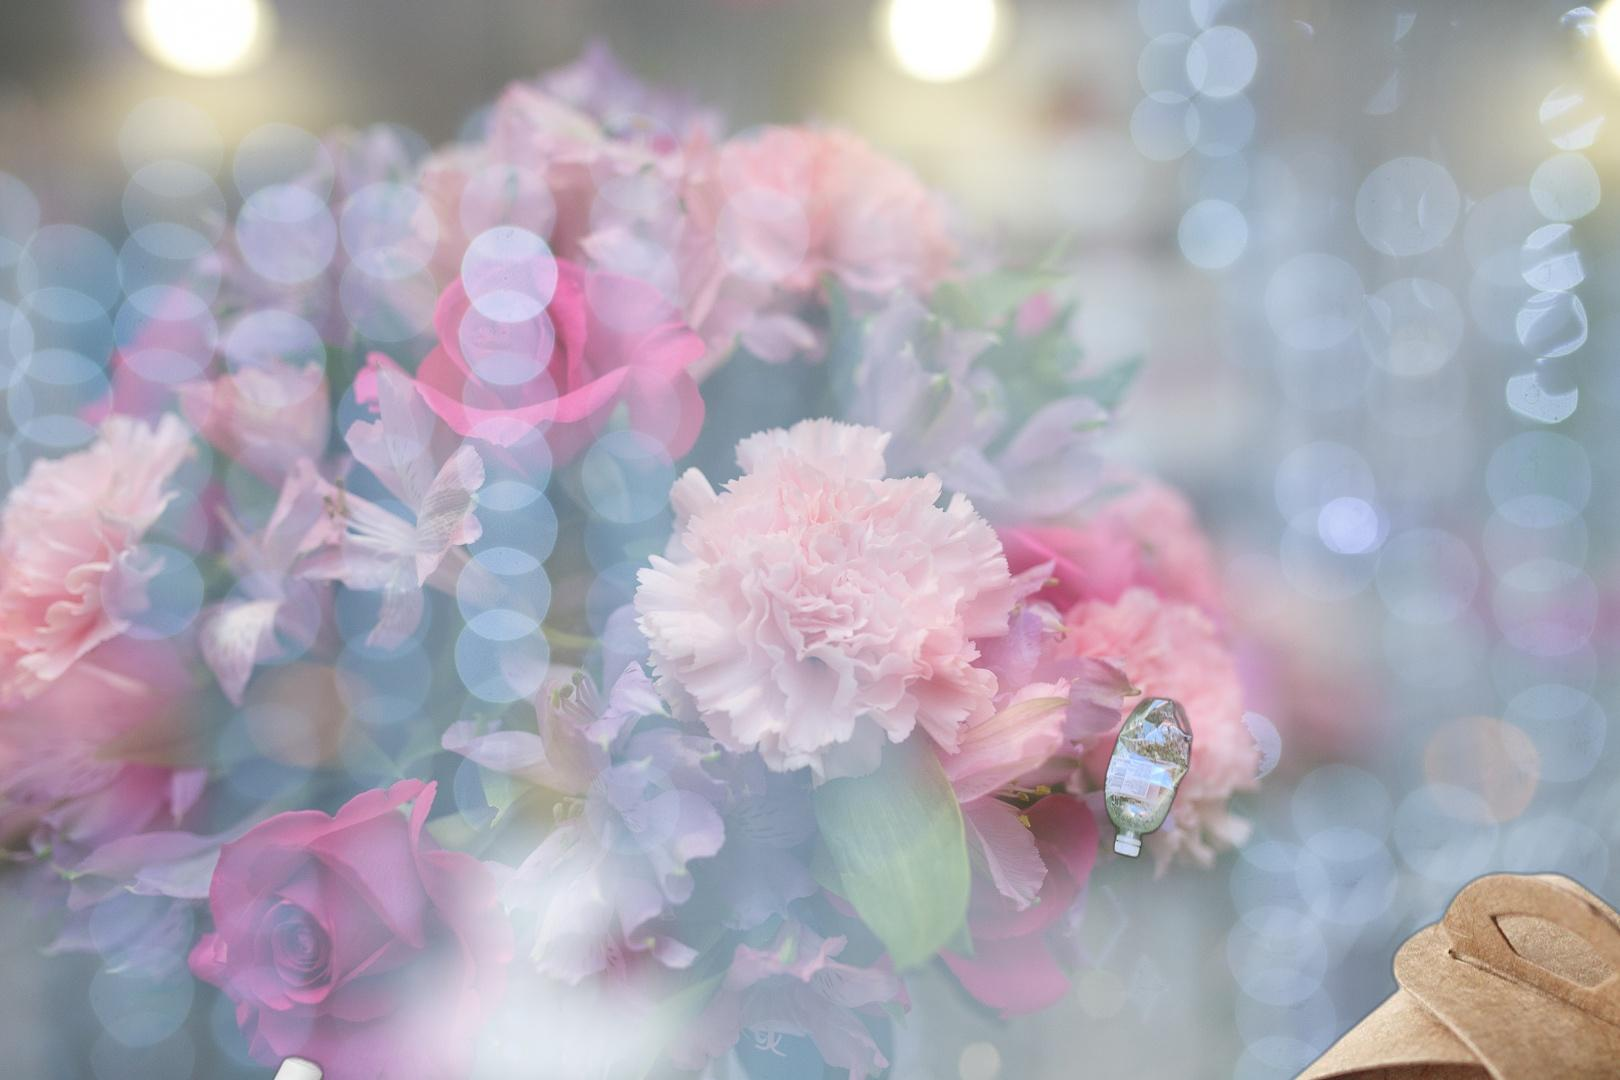penholder: (8, 1050, 450, 1080)
plastic-bottles: (1100, 689, 1197, 864)
trashbox-cardboard: (1188, 864, 1620, 1080)
